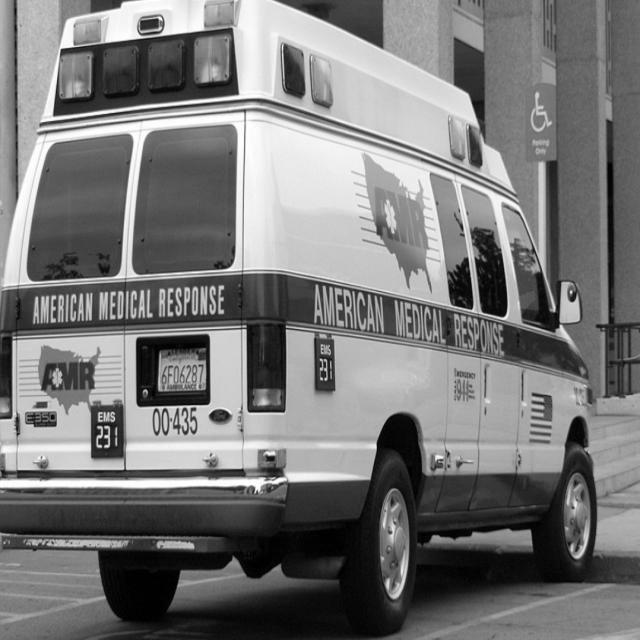Ambulance: (0, 0, 599, 638)
